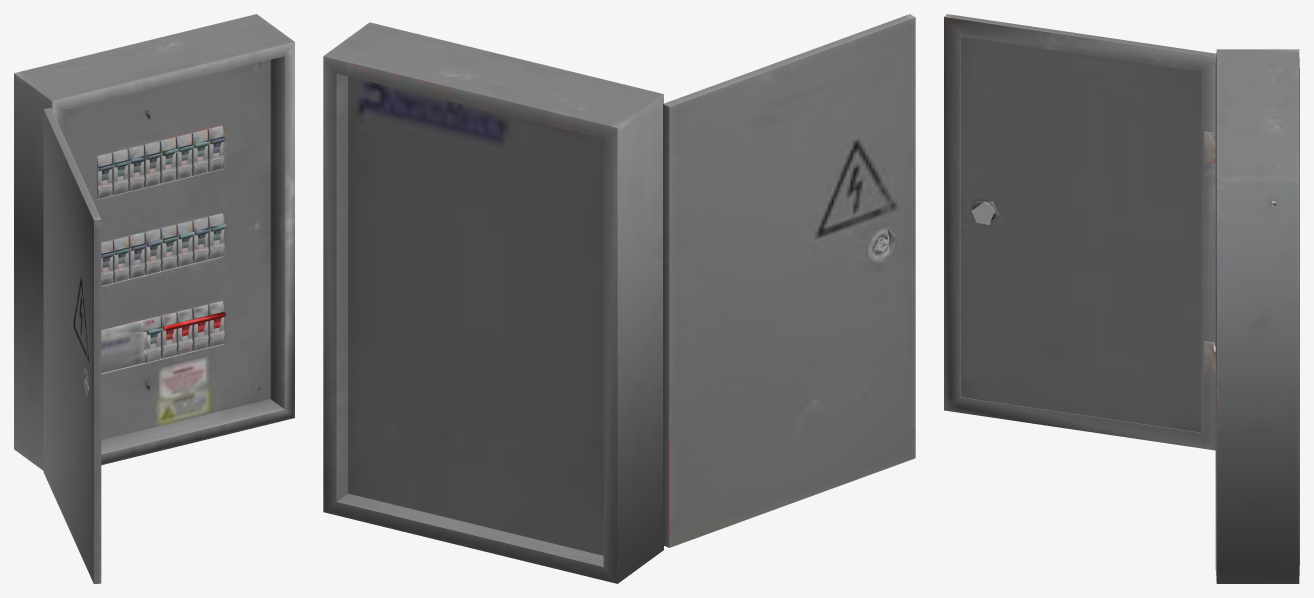
The model's file is power_box.glb.
3 views of the same model, side by side, from view 1: azimuth 30°, elevation 25°; view 2: azimuth 150°, elevation 25°; view 3: azimuth 270°, elevation 25° (orthographic). The views are drawn at different scales.
Visible parts, largest first — view 1: power_box_01_box, power_box_01_door; view 2: power_box_01_box, power_box_01_door; view 3: power_box_01_door, power_box_01_box.
Part boxes in pixels (bbox=[...]): power_box_01_box: bbox=[14, 14, 294, 470]; power_box_01_door: bbox=[43, 108, 101, 583]; power_box_01_box: bbox=[323, 22, 663, 583]; power_box_01_door: bbox=[663, 14, 915, 547]; power_box_01_door: bbox=[944, 14, 1216, 450]; power_box_01_box: bbox=[1215, 49, 1299, 583].
Size of the model in its own units: 0.4608 by 0.5031 by 0.399.
Materials: 1 (1 with a texture image).
